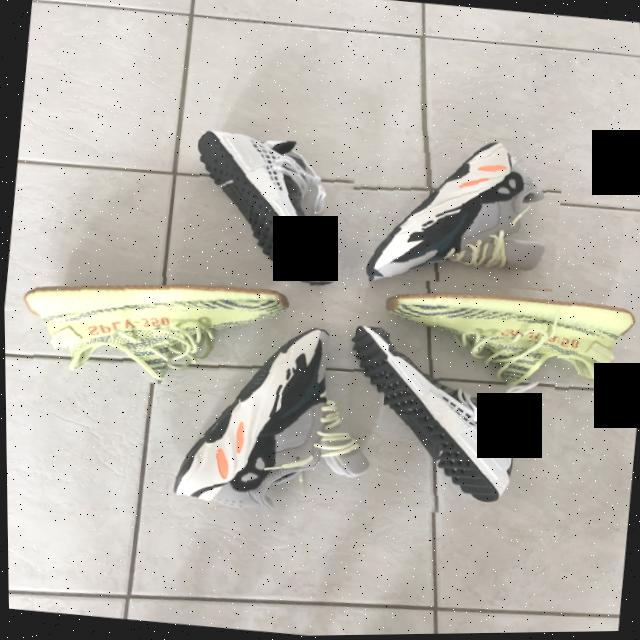shoe: (146, 306, 391, 548), (321, 316, 560, 528), (336, 123, 567, 309), (3, 254, 292, 402), (356, 273, 640, 413), (177, 111, 364, 292)
